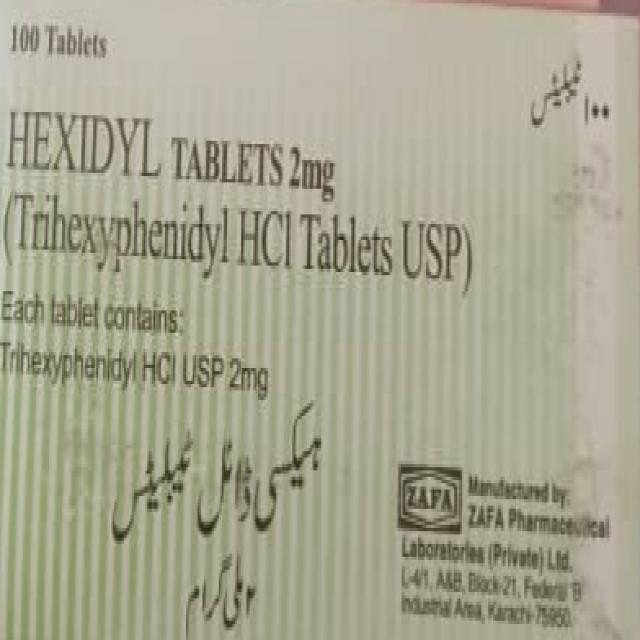drug-name: (2, 105, 166, 179)
